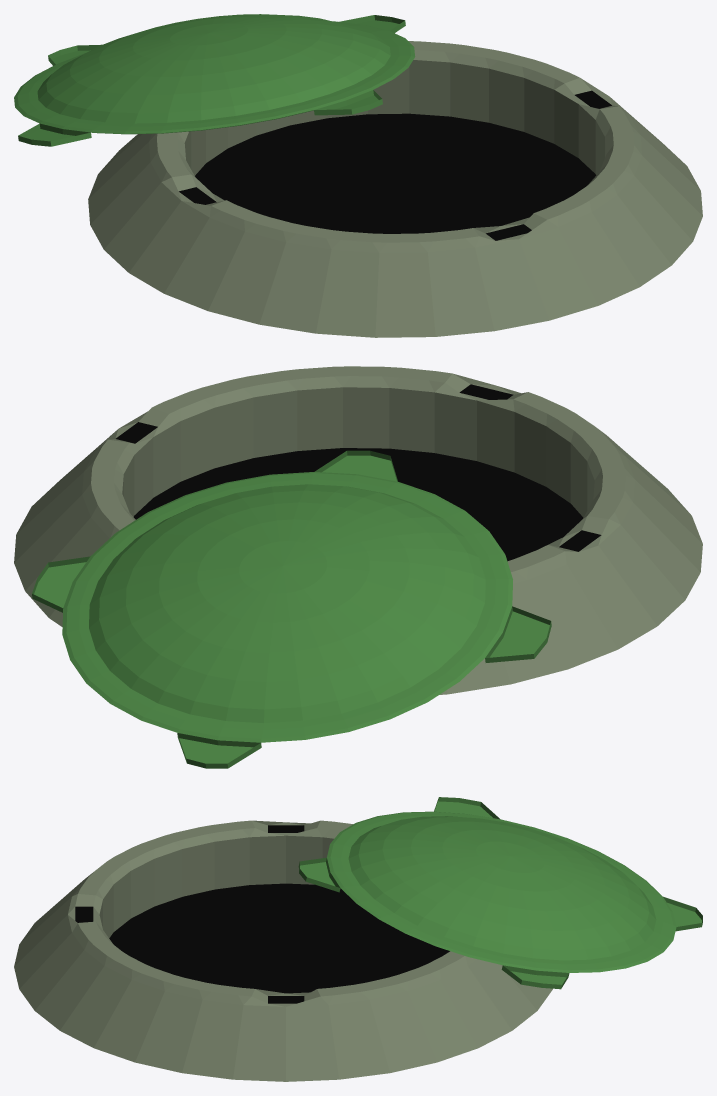
File: Люк.fbx
3 views of the same model, one above another, from view 1: azimuth 30°, elevation 25°; view 2: azimuth 150°, elevation 25°; view 3: azimuth 270°, elevation 25° (orthographic). The views are drawn at different scales.
Visible parts, largest first — view 1: Sphere; view 2: Sphere; view 3: Sphere.
Part boxes in pixels (x1,y1,x2,y2): Sphere: (14,14,702,337); Sphere: (14,366,702,768); Sphere: (14,797,702,1081).
Size of the model in its own units: 108 by 20.56 by 136.
